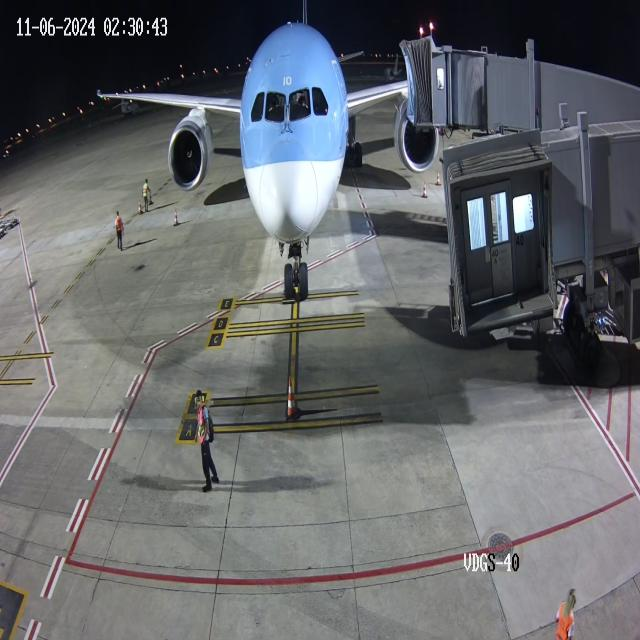bridge: (415, 18, 489, 138)
plane: (94, 0, 396, 310)
window: (250, 82, 330, 126)
